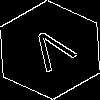V: (25, 25, 84, 81)
